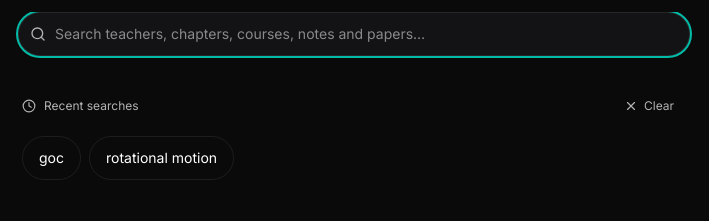
Test: a chip re-runs that search › clears the remembered searches on request, and says so by showing none
This screenshot has width=709, height=221.
Click the button with aria-label "Clear recent searches": (649,106) [612, 84, 686, 128]
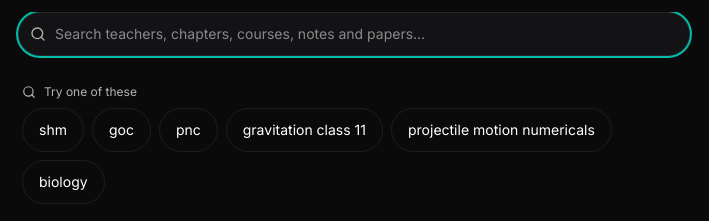
Check: the text "Recent searches" is gone
Check: the button "rotational motion" is gone
Check: the text "Try one of these" is shown, box [22, 84, 137, 100]
